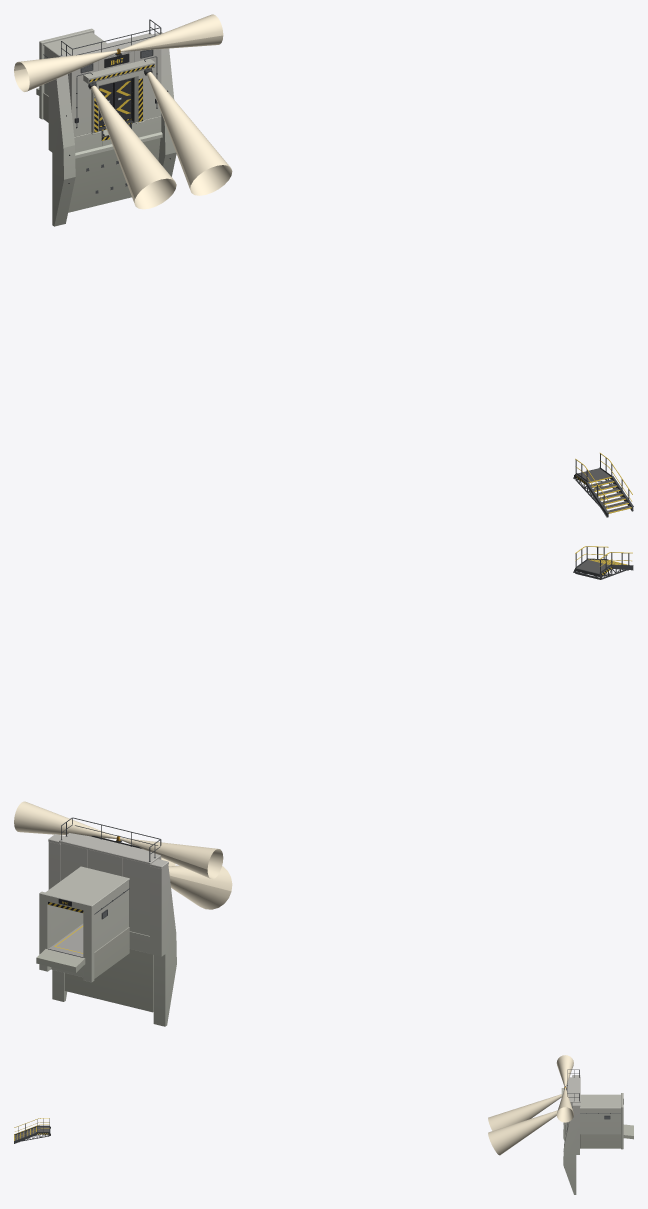
The model's file is gatehouse.glb.
3 views of the same model, one above another, from view 1: azimuth 30°, elevation 25°; view 2: azimuth 150°, elevation 25°; view 3: azimuth 270°, elevation 25° (orthographic). The views are drawn at different scales.
Visible parts, largest first — view 1: gatehouse_concrete, gatehouse_beam, BEACON_beam, gatehouse_steel, STAIR_steel, STAIR_grating; view 2: gatehouse_concrete, BEACON_beam, gatehouse_beam, gatehouse_steel, STAIR_steel; view 3: gatehouse_concrete, gatehouse_beam, BEACON_beam, STAIR_steel.
Boxes of the visible parts, x1,y1,x2,y2 form: gatehouse_concrete: [36, 28, 176, 226]; gatehouse_beam: [91, 72, 232, 209]; BEACON_beam: [14, 14, 223, 91]; gatehouse_steel: [43, 19, 170, 193]; STAIR_steel: [573, 454, 633, 517]; STAIR_grating: [578, 468, 630, 512]; gatehouse_concrete: [36, 833, 176, 1026]; BEACON_beam: [14, 801, 223, 879]; gatehouse_beam: [161, 858, 232, 909]; gatehouse_steel: [48, 817, 161, 957]; STAIR_steel: [573, 547, 633, 579]; gatehouse_concrete: [561, 1075, 633, 1194]; gatehouse_beam: [488, 1094, 561, 1155]; BEACON_beam: [556, 1055, 573, 1122]; STAIR_steel: [14, 1118, 50, 1143].
Size of what is drawn, in the model's own units: 14.28 by 12.62 by 71.88.
